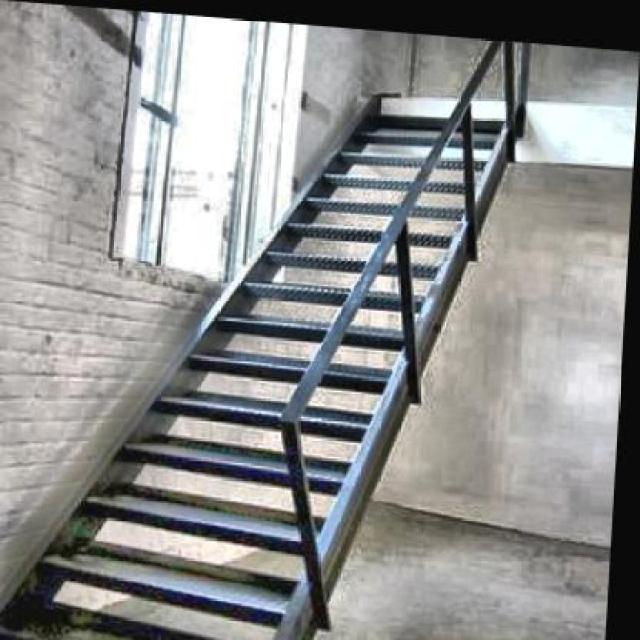stair: (17, 75, 537, 636)
